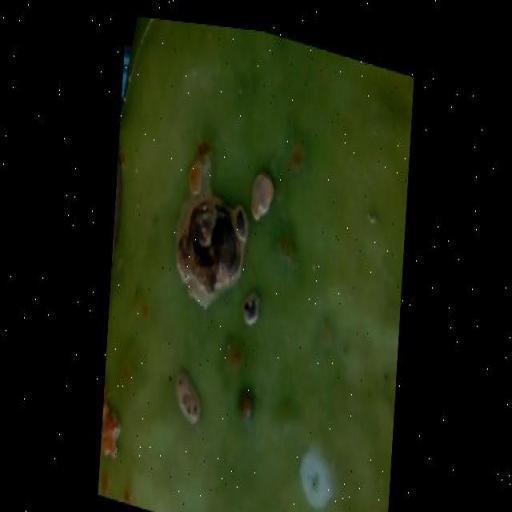stemcanker: (412, 48, 439, 75), (375, 18, 392, 36), (379, 56, 393, 72)
